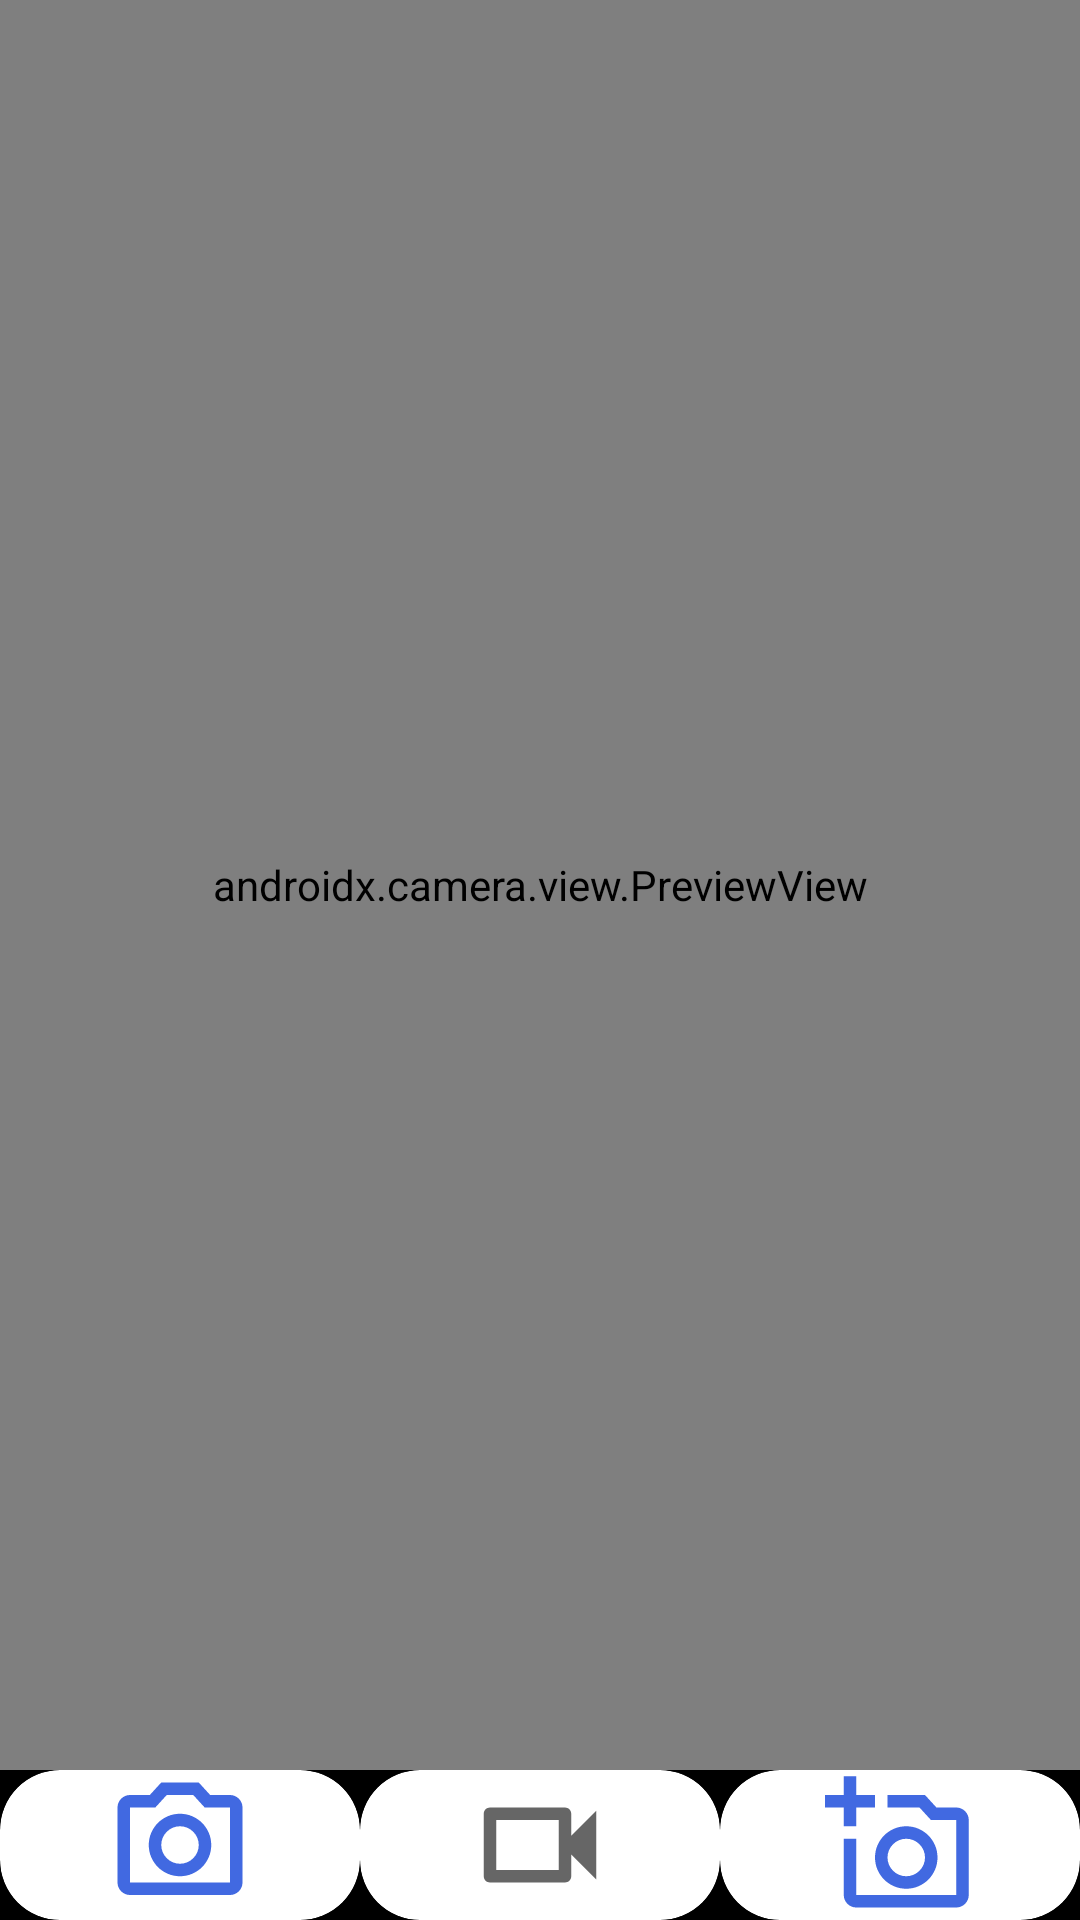

Point at icon controls on the screen. Image size 1080*1920, points as (x=x, y=y).
add photo: (x=900, y=1845)
videocam: (x=540, y=1845)
